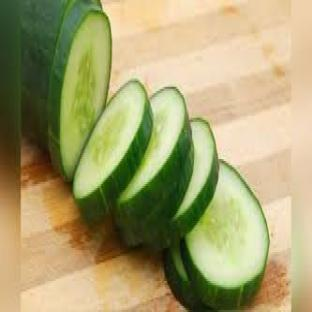Cucumber: (181, 162, 269, 309), (115, 87, 193, 241), (74, 81, 152, 223), (169, 118, 219, 239), (164, 242, 210, 311)
